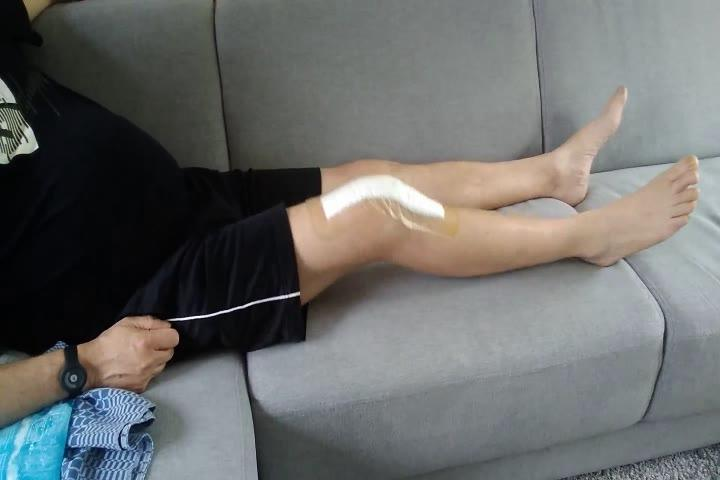lower_body: (112, 79, 705, 366)
